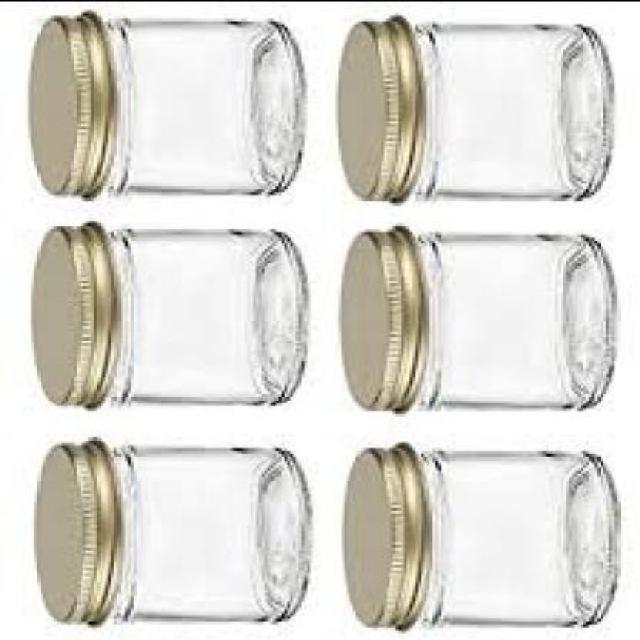GLASS: (102, 440, 310, 618), (407, 231, 615, 409), (403, 18, 614, 193), (104, 225, 304, 404), (414, 446, 614, 623), (103, 17, 300, 191)
METAL: (336, 222, 427, 409), (28, 216, 117, 407), (338, 436, 427, 626), (26, 2, 109, 196), (28, 435, 114, 620), (336, 12, 418, 196)
